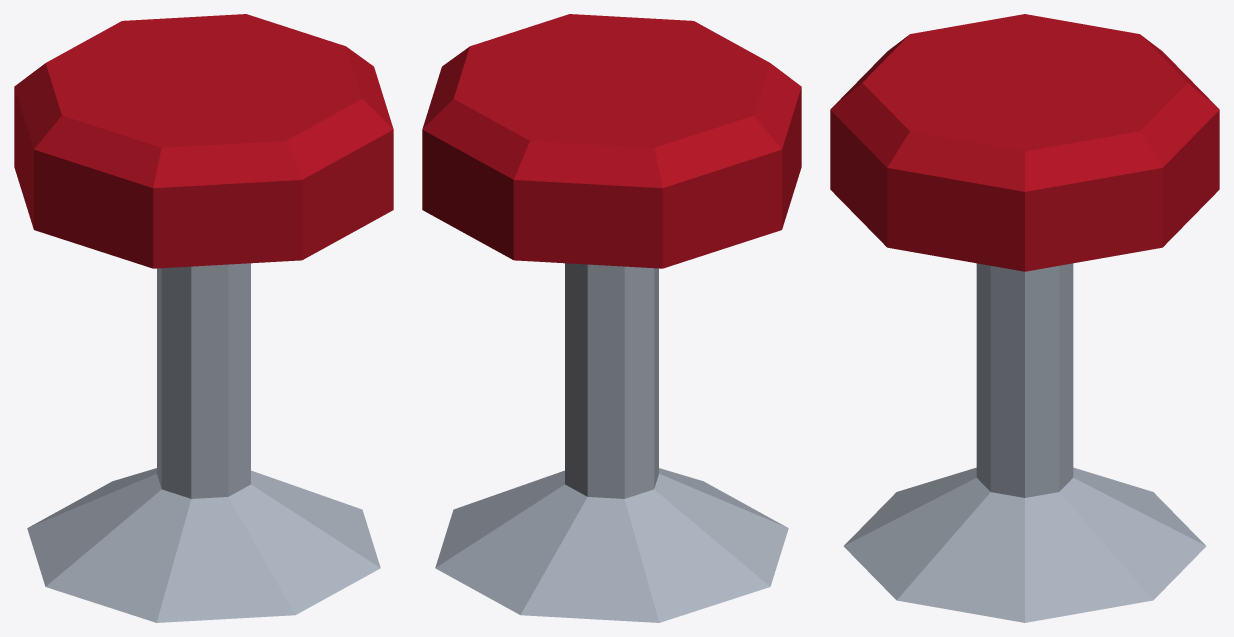
Rendered from Chair_1.fbx.
3 renders of one model, left to right at view 1: azimuth 30°, elevation 25°; view 2: azimuth 150°, elevation 25°; view 3: azimuth 270°, elevation 25°, orthographic.
Visible parts, largest first — view 1: Chair_1; view 2: Chair_1; view 3: Chair_1.
Boxes of the visible parts, left/top/right/bottom form: Chair_1: left=14, top=14, right=393, bottom=622; Chair_1: left=422, top=14, right=801, bottom=622; Chair_1: left=830, top=14, right=1219, bottom=622.
Bounding box in the file's own units: 52.96 × 69.53 × 52.96.
